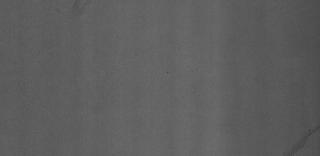water spot: (284, 123, 320, 155), (62, 1, 94, 27)
